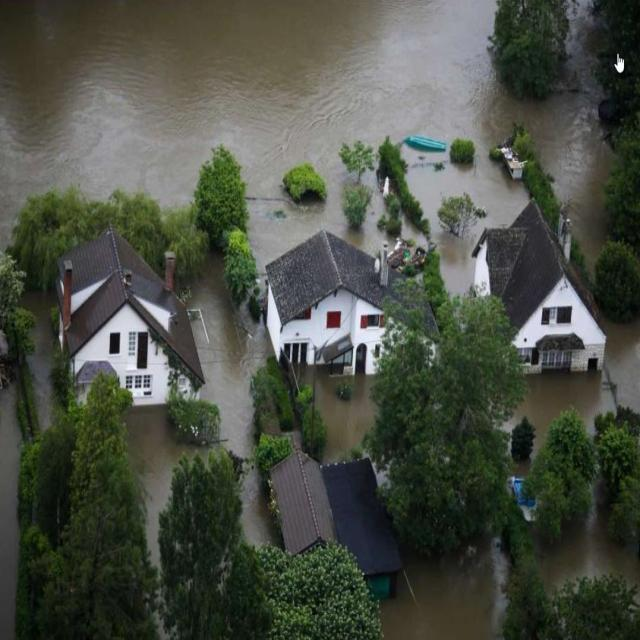flooded_areas: (1, 120, 640, 600)
